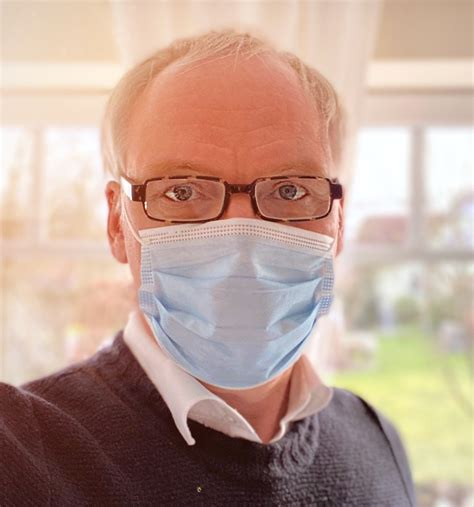sem_capacete: (88, 29, 357, 398)
